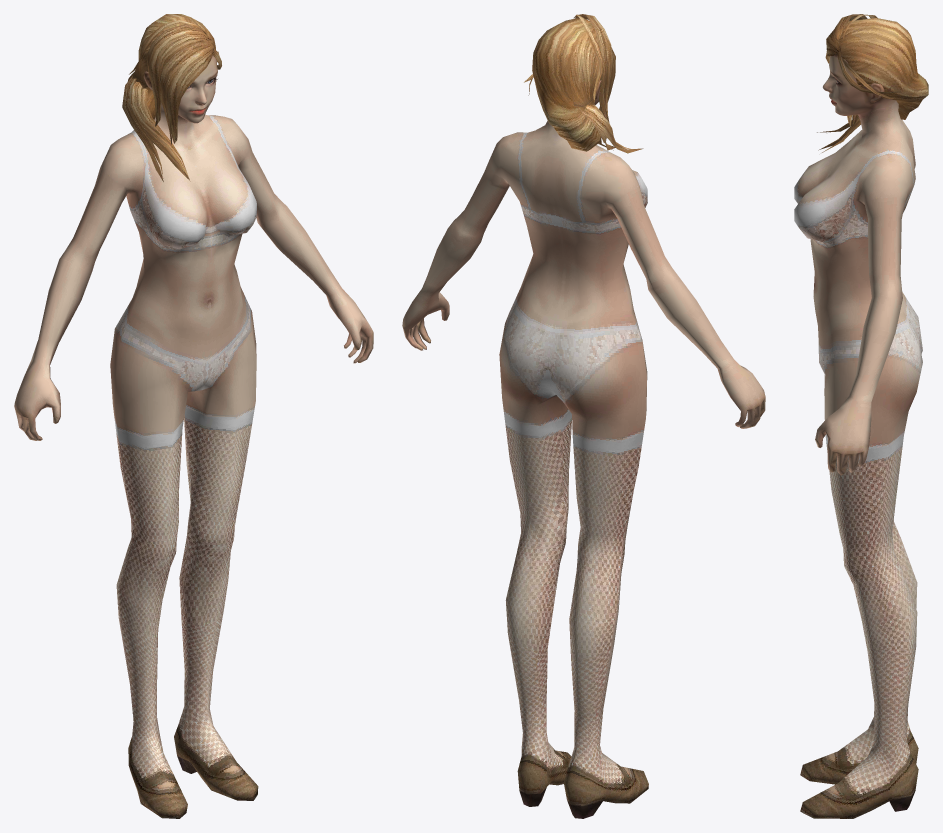
3 renders of one model, left to right at view 1: azimuth 30°, elevation 25°; view 2: azimuth 150°, elevation 25°; view 3: azimuth 270°, elevation 25°, orthographic.
Visible parts, largest first — view 1: element3ds.com-FE_CLR_000; view 2: element3ds.com-FE_CLR_000; view 3: element3ds.com-FE_CLR_000.
Part boxes in pixels (x1,y1,x2,y2): element3ds.com-FE_CLR_000: (14, 14, 373, 818); element3ds.com-FE_CLR_000: (402, 14, 765, 818); element3ds.com-FE_CLR_000: (794, 14, 928, 818).
Bounding box in the file's own units: 0.7846 × 1.66 × 0.2601.
1 material, 1 textured.
